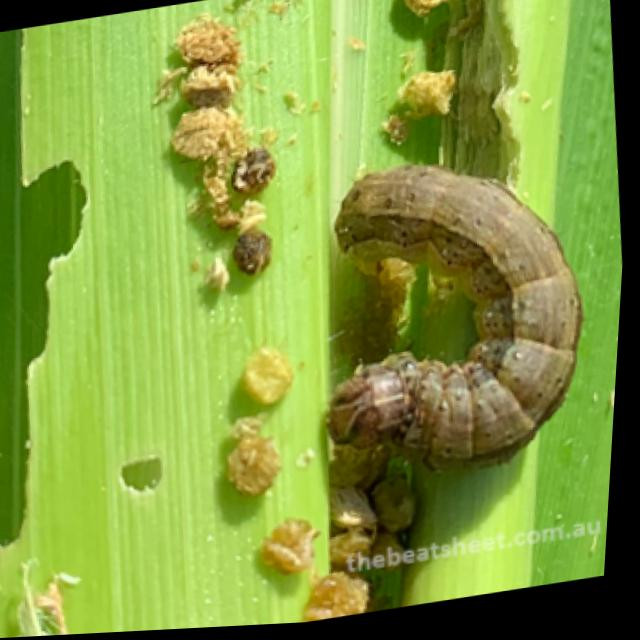Fall-Armyworm: (290, 125, 621, 503)
